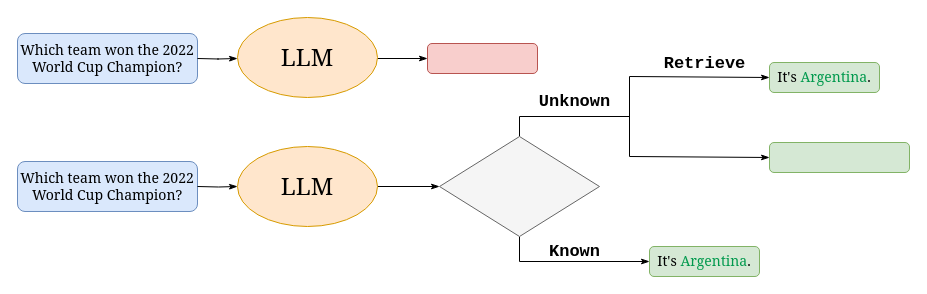
The diagram is 927 pixels wide and 294 high, and some of its shapes have lost their labels. Each missing label, with the box of its shape:
It's France .: (426, 42, 538, 74)
Self-Evaluating: (438, 136, 600, 236)
Sorry, I don't know.: (768, 142, 910, 172)
